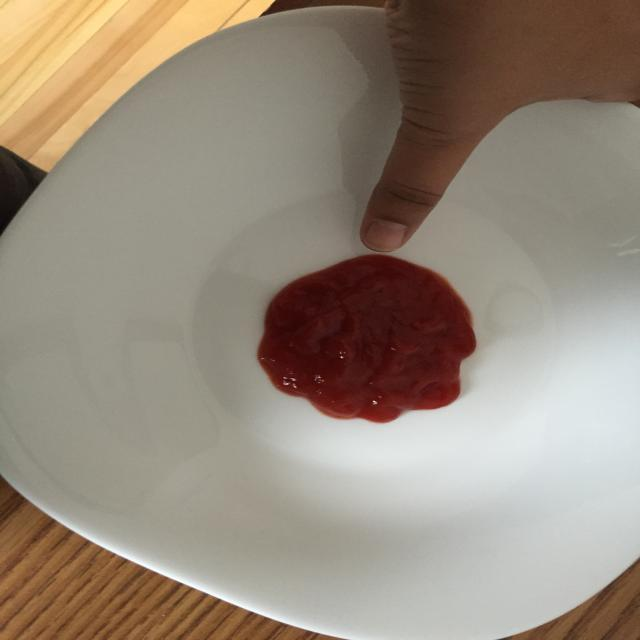sauce: (255, 252, 478, 424)
